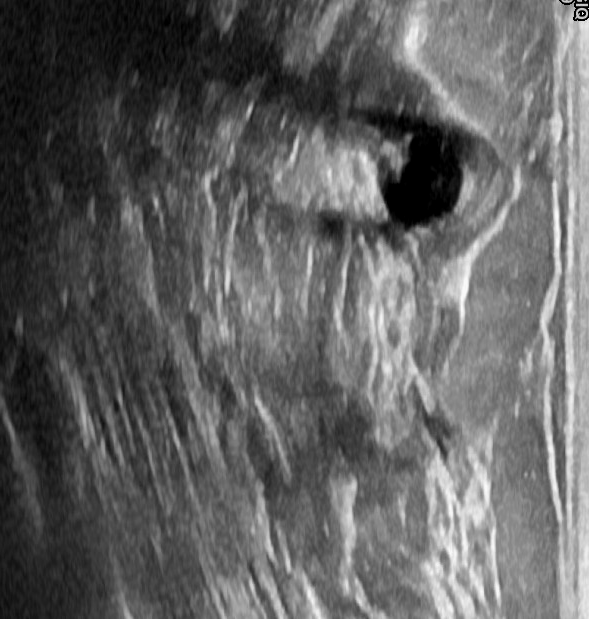Benign: (376, 118, 471, 231)
